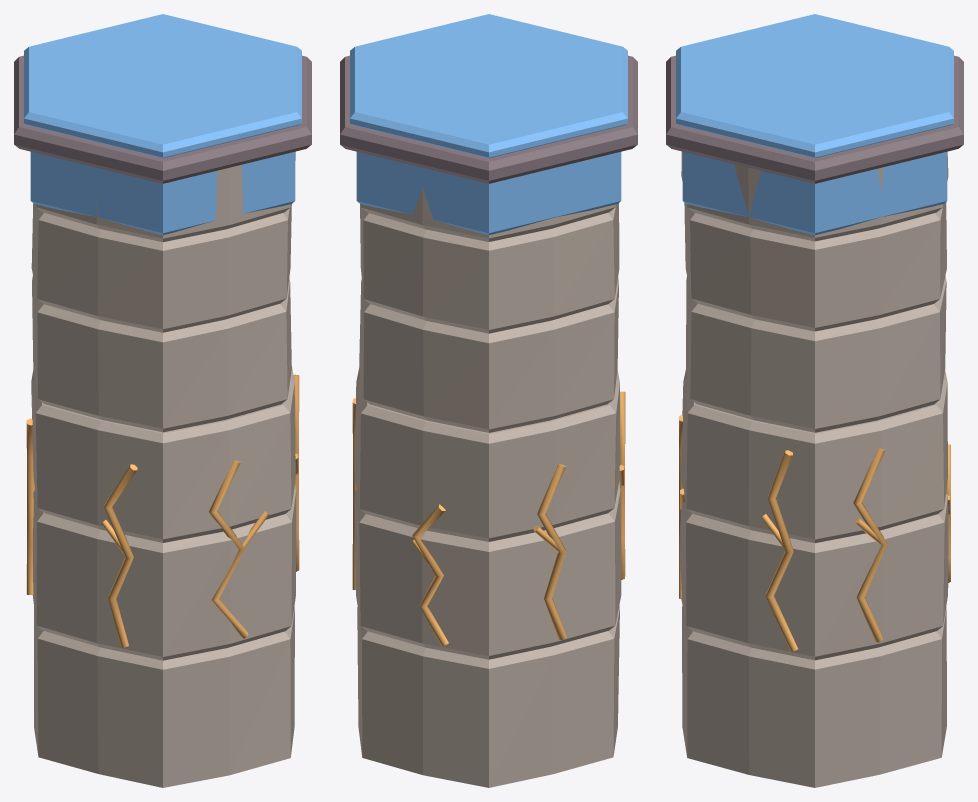
The model's file is HexColumn.glb.
3 views of the same model, side by side, from view 1: azimuth 30°, elevation 25°; view 2: azimuth 150°, elevation 25°; view 3: azimuth 270°, elevation 25° (orthographic).
Parts seen in each view (by area): view 1: Rock, Top, Rim, Glow; view 2: Rock, Top, Rim, Glow; view 3: Rock, Top, Rim, Glow.
Part boxes in pixels (bbox=[...]): Rock: bbox=[31, 152, 296, 787]; Top: bbox=[24, 14, 301, 235]; Rim: bbox=[14, 55, 311, 183]; Glow: bbox=[26, 374, 299, 647]; Rock: bbox=[354, 188, 621, 787]; Top: bbox=[350, 14, 627, 235]; Rim: bbox=[340, 55, 637, 183]; Glow: bbox=[352, 391, 625, 646]; Rock: bbox=[680, 151, 948, 787]; Top: bbox=[676, 14, 953, 234]; Rim: bbox=[666, 55, 963, 183]; Glow: bbox=[679, 414, 950, 652].
Bounding box in the file's own units: 14.9 × 30.95 × 12.9.
